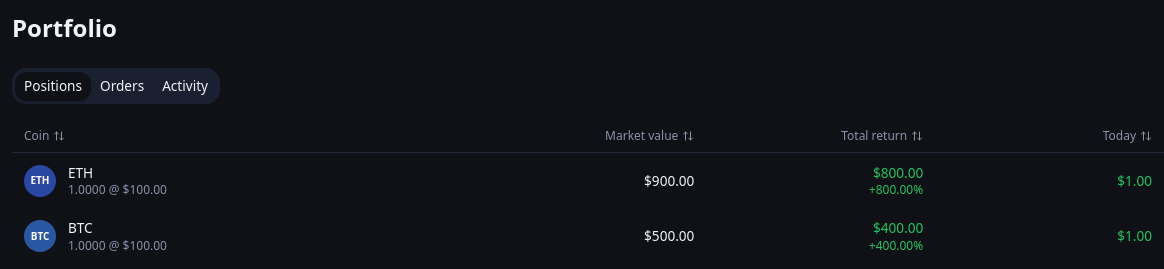
Scenario: PortfolioPage › shows order history in the Orders tab
Expected: the 2nd text "BTC" is shown, [68, 218, 93, 237]
Step 1. Click the tab "Orders" → x=122, y=86, box [91, 72, 153, 100]
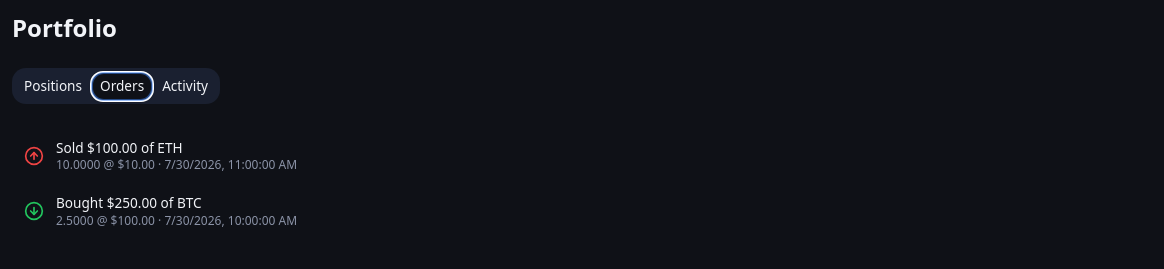
Expected: the text "Sold $100.00 of ETH" is shown, [56, 138, 182, 157]
